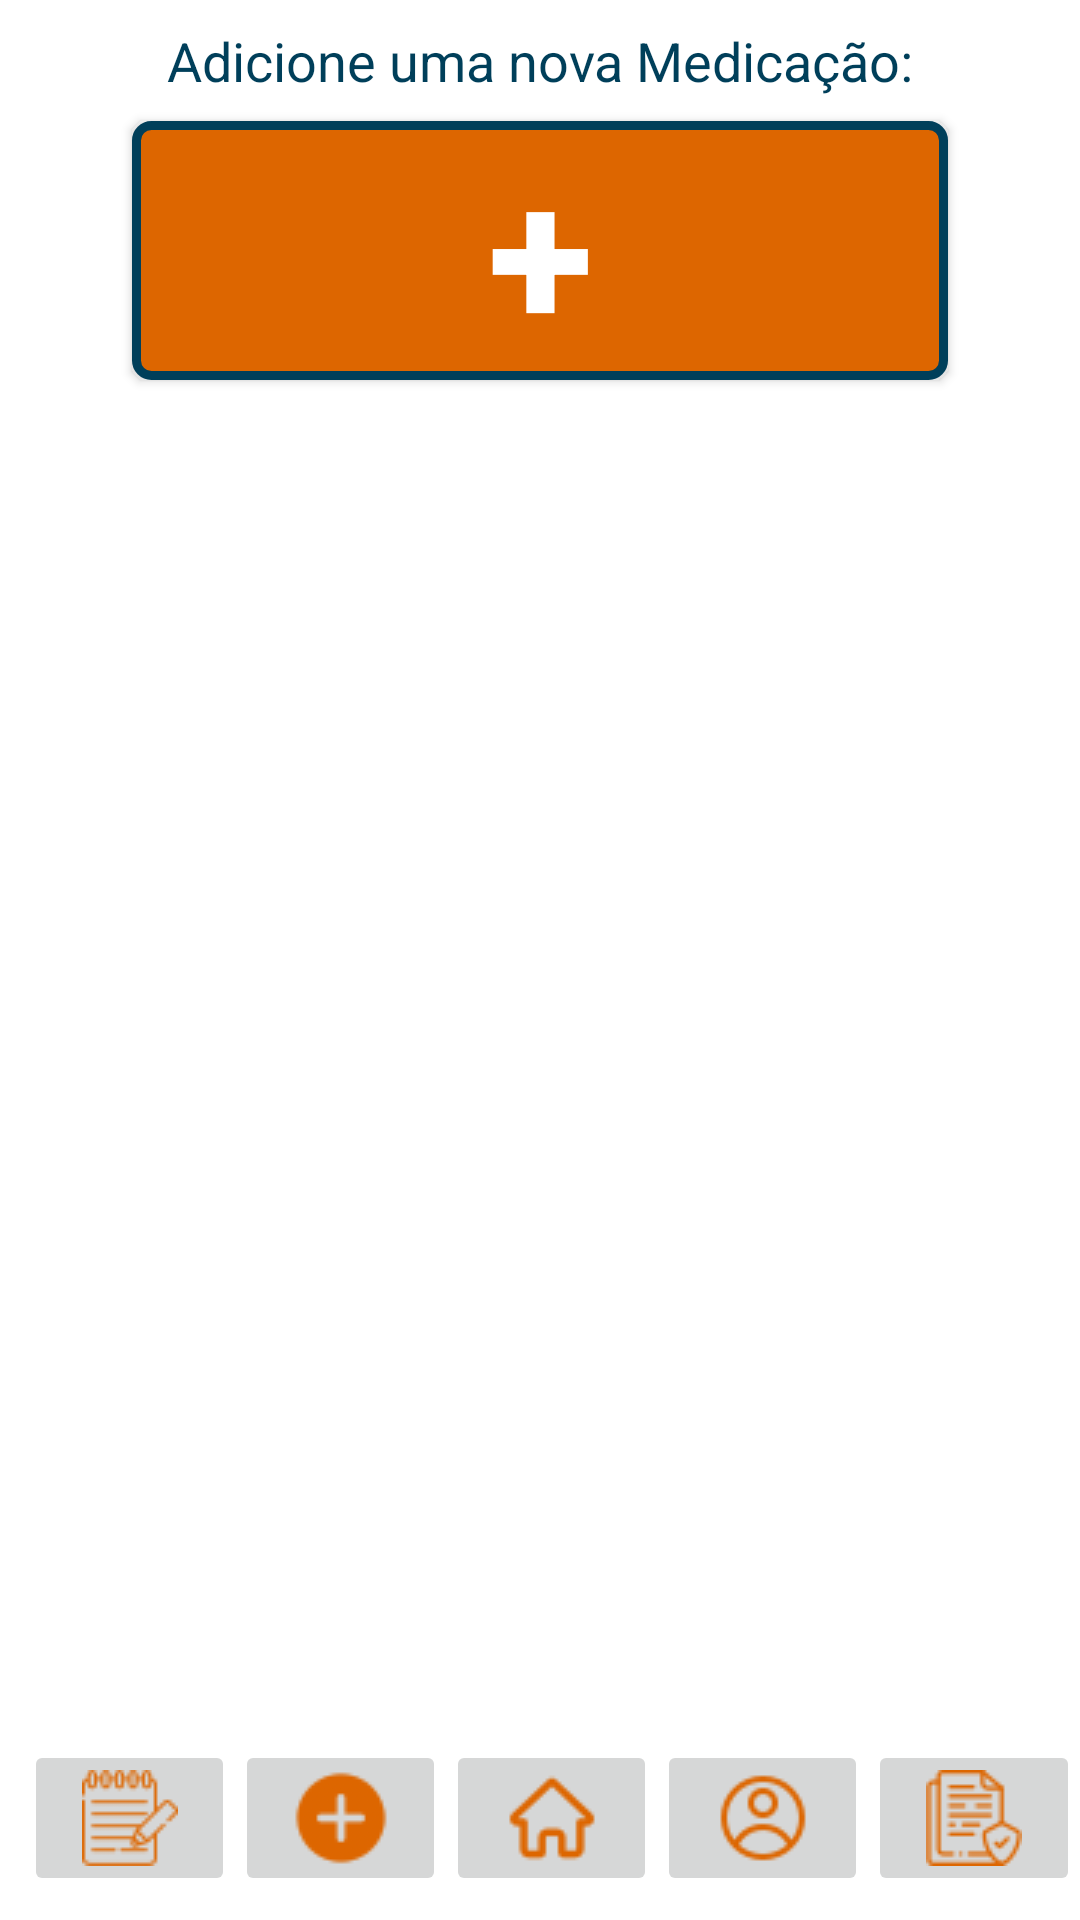

Named icons in this screenshot (1080px×1920px) and their bounding boxes, (x1, y1, x2, y2):
add: (247, 1758, 434, 1878)
caderno: (36, 1758, 223, 1878)
casa: (458, 1758, 645, 1878)
contrato: (880, 1758, 1068, 1878)
